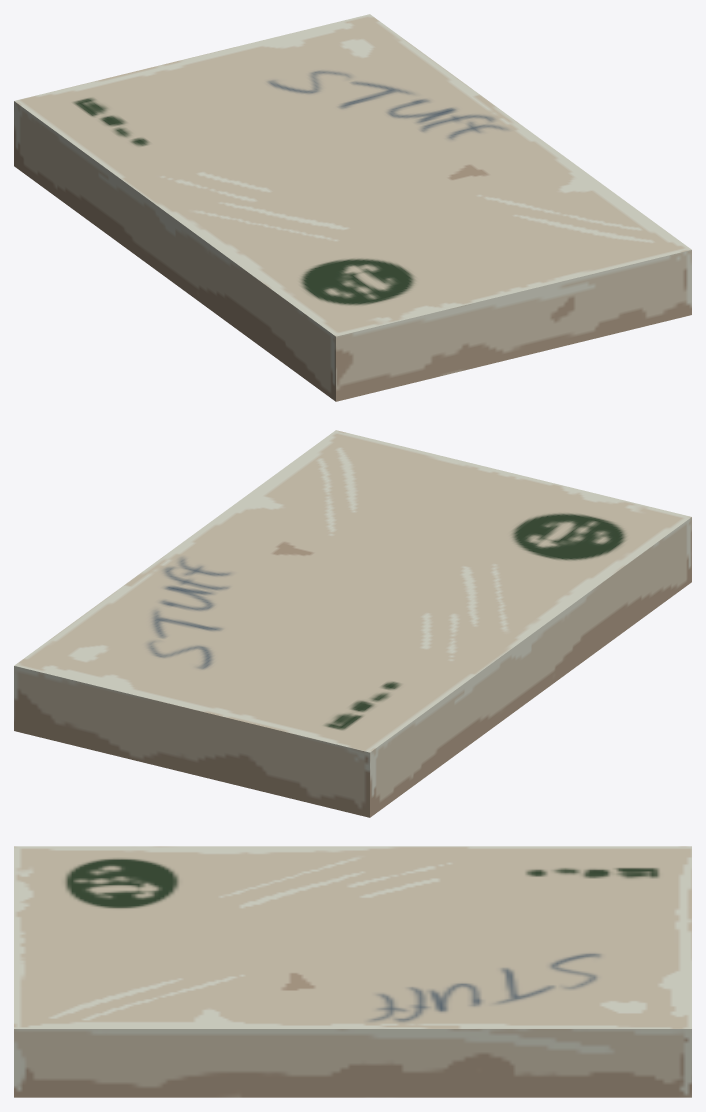
The model's file is Carton_Box_1_Lid.glb.
3 views of the same model, one above another, from view 1: azimuth 30°, elevation 25°; view 2: azimuth 150°, elevation 25°; view 3: azimuth 270°, elevation 25° (orthographic). The views are drawn at different scales.
Visible parts, largest first — view 1: Carton_Box_1_Lid; view 2: Carton_Box_1_Lid; view 3: Carton_Box_1_Lid.
Boxes of the visible parts, x1=… form: Carton_Box_1_Lid: x1=14, y1=14, x2=691, y2=401; Carton_Box_1_Lid: x1=14, y1=430, x2=691, y2=817; Carton_Box_1_Lid: x1=14, y1=846, x2=691, y2=1097.
Size of the model in its own units: 0.3117 by 0.0546 by 0.4884.
Materials: 1 (1 with a texture image).
